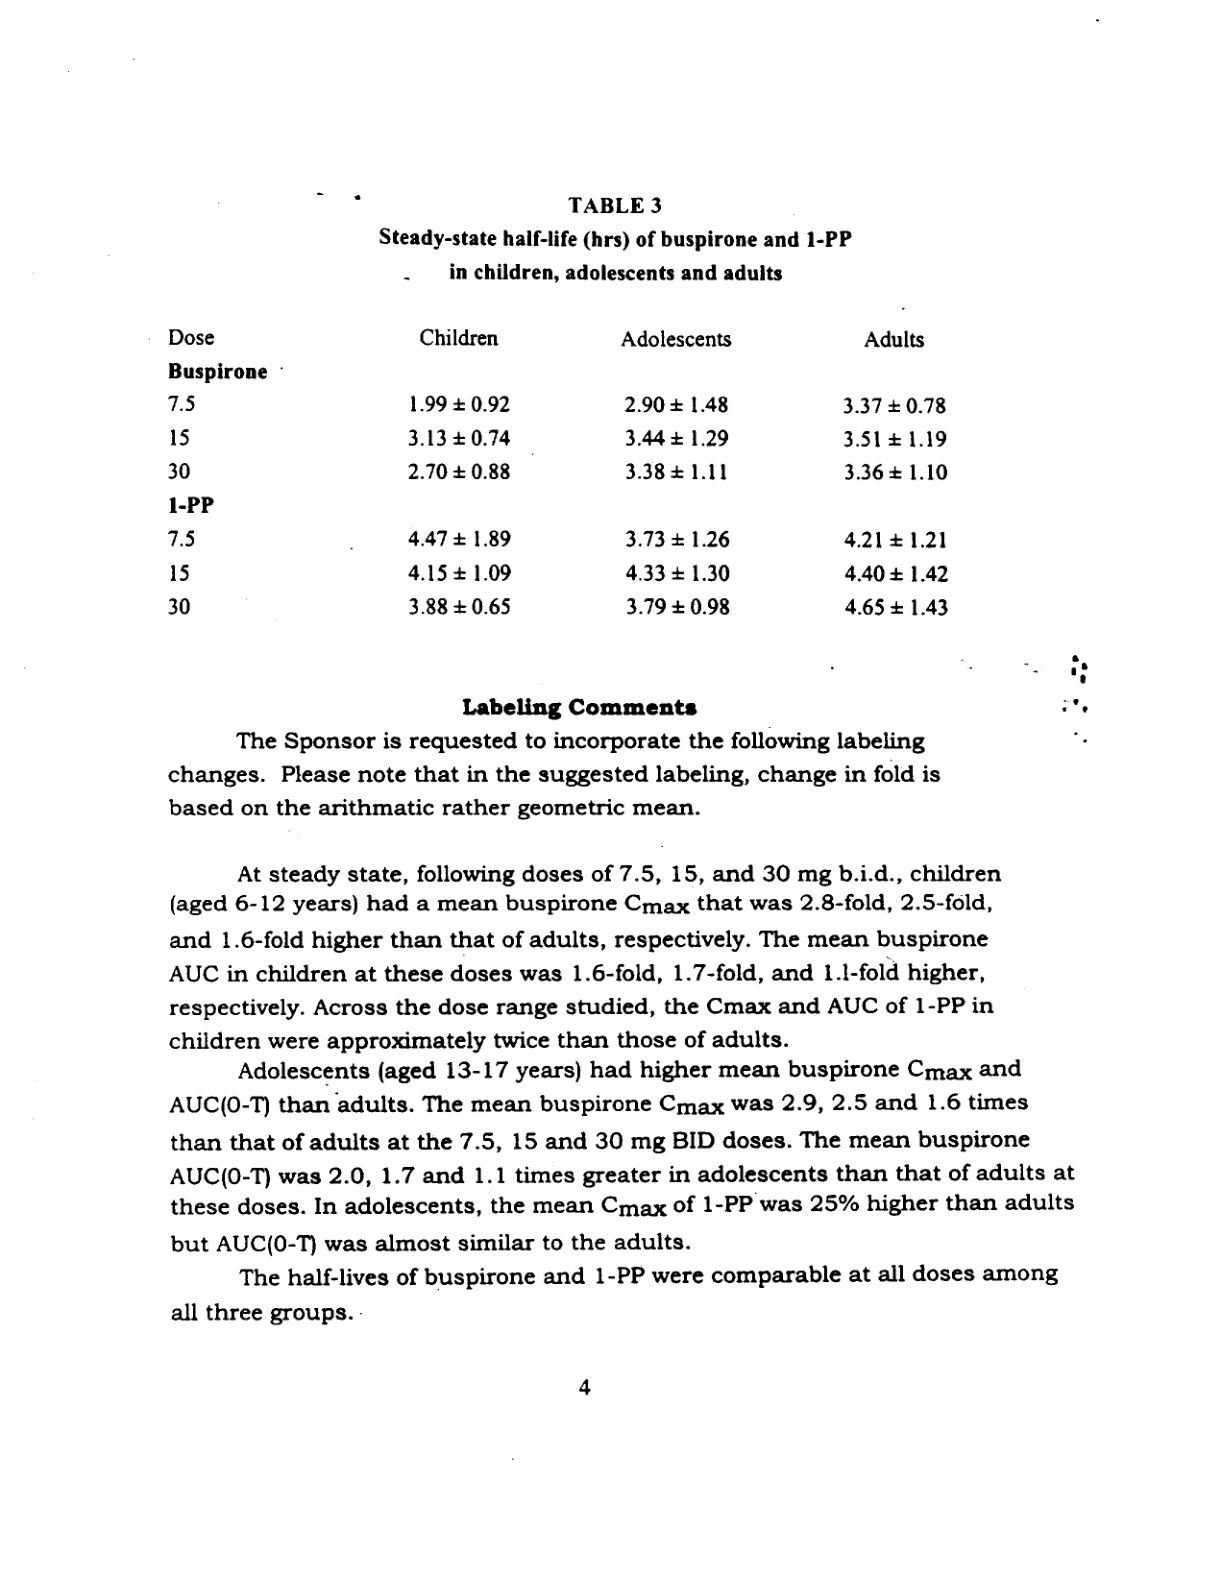nolines: (166, 325, 953, 619)
